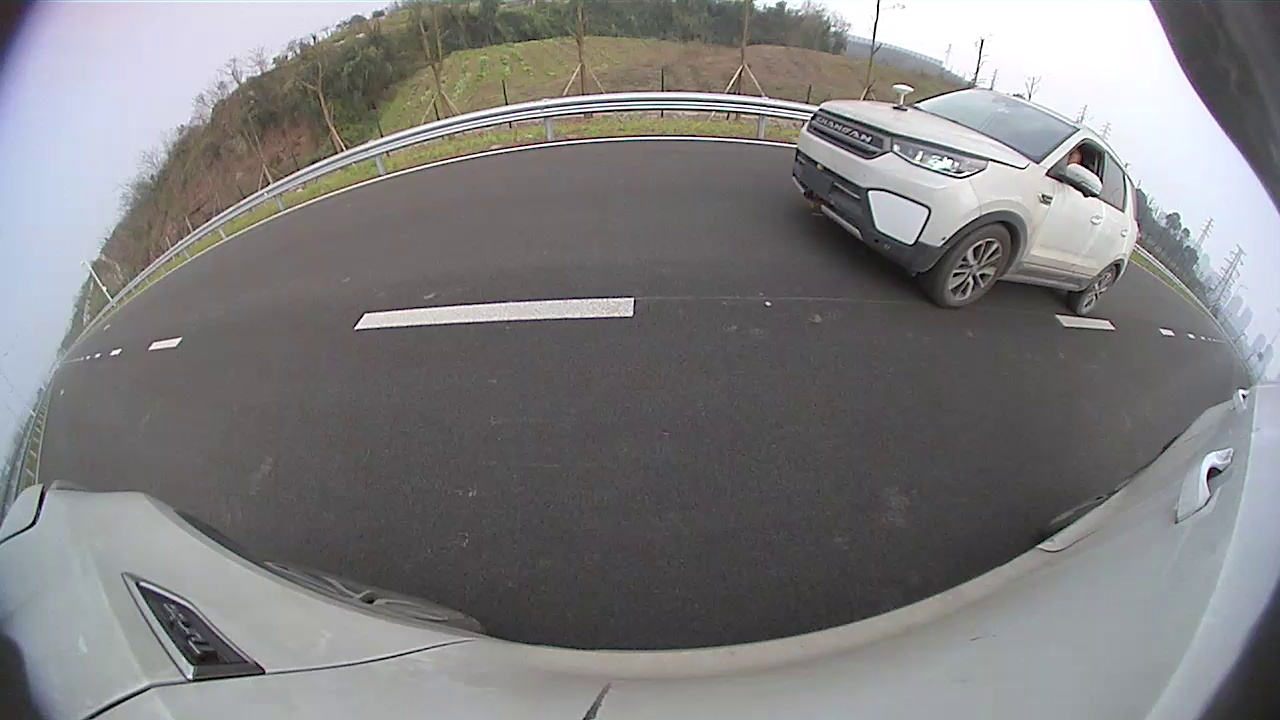car: (791, 82, 1141, 316)
front: (935, 224, 1012, 305)
rear: (1077, 266, 1117, 314)
